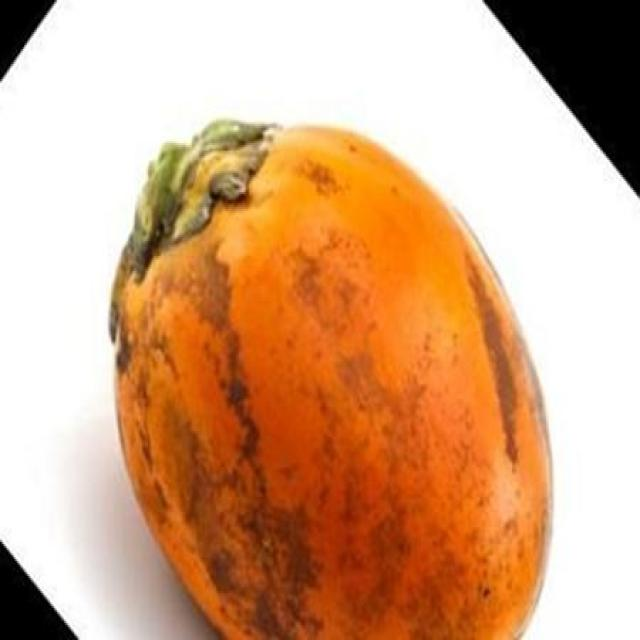good: (110, 120, 555, 638)
